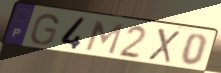0: (179, 32, 209, 68)
2: (117, 24, 149, 60)
4: (58, 15, 88, 52)
G: (29, 13, 61, 47)
M: (83, 19, 126, 57)
X: (146, 27, 182, 65)
